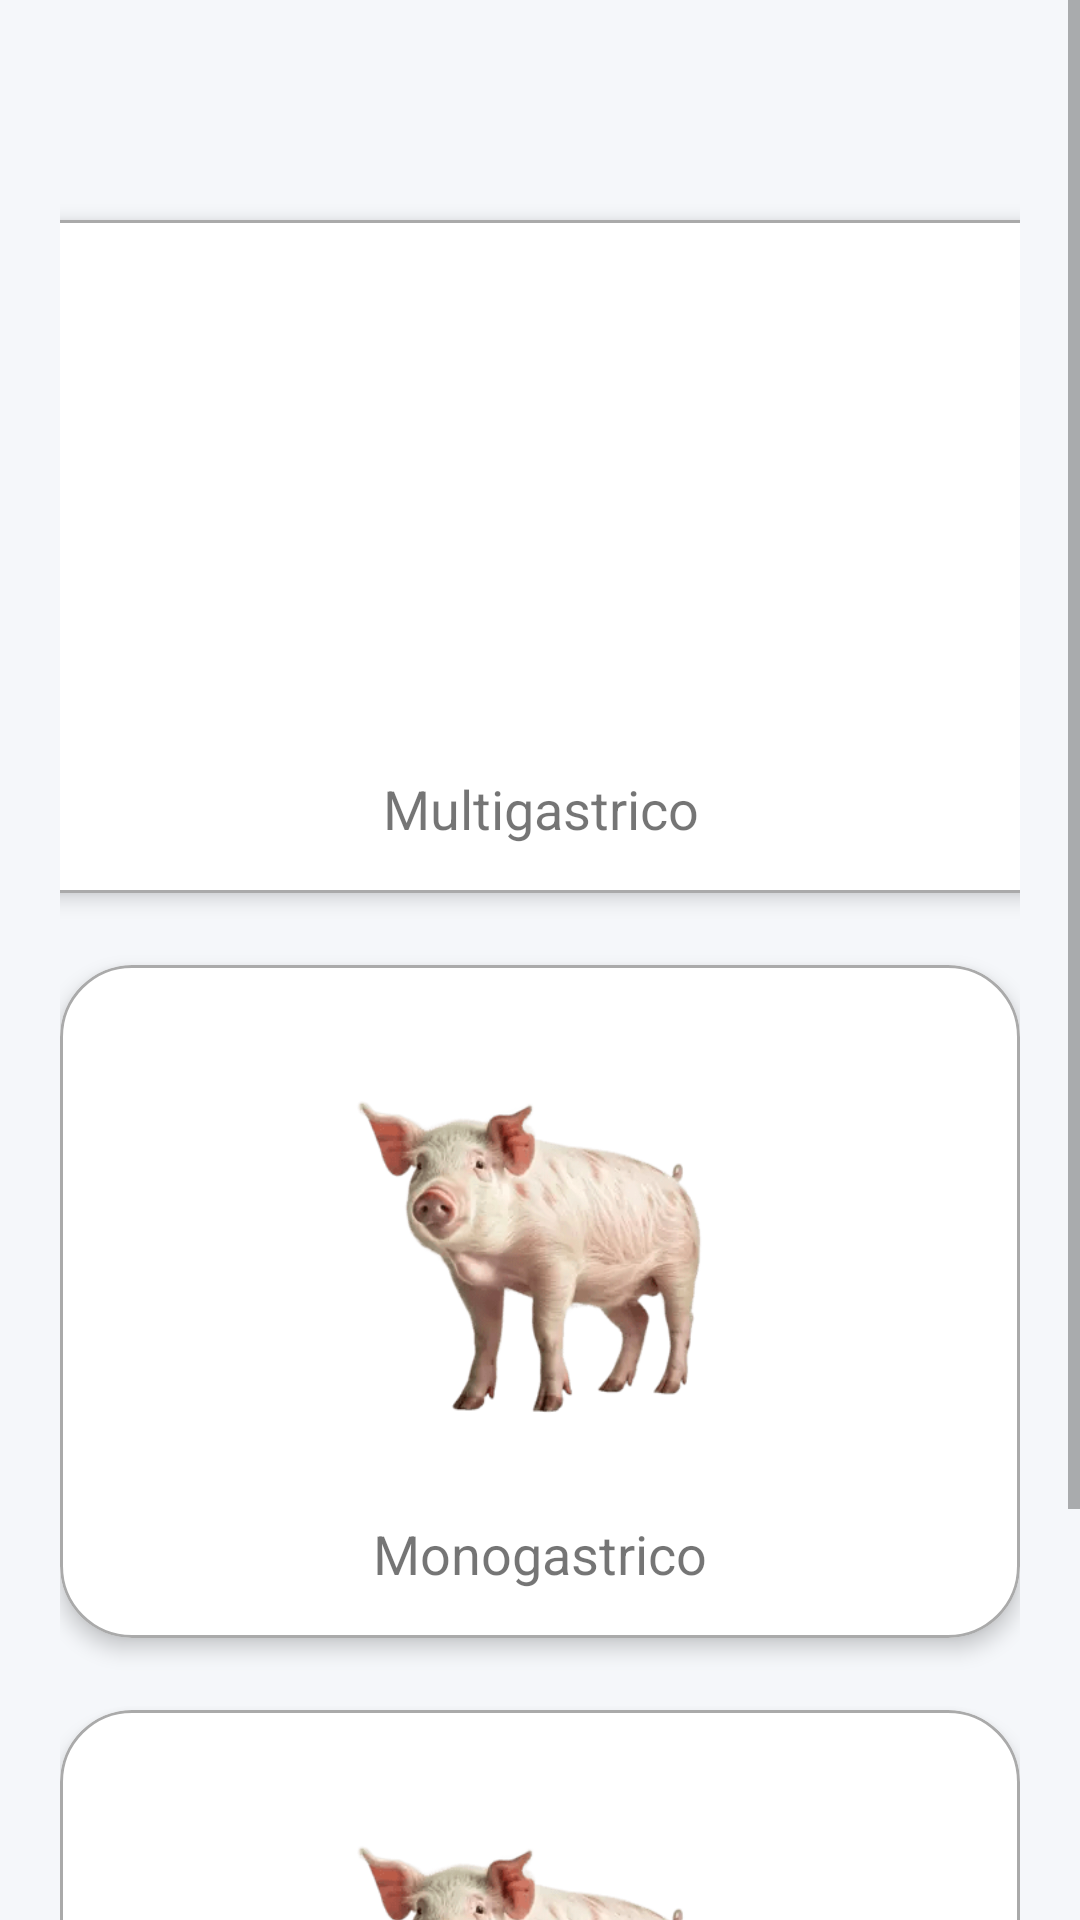

Icon bounding boxes for this 1080*1920 phone screenshot, format [left=x1, top=y1, right=x2, bottom=y2]:
Ilustración de cerdo: [left=359, top=1103, right=700, bottom=1412]
